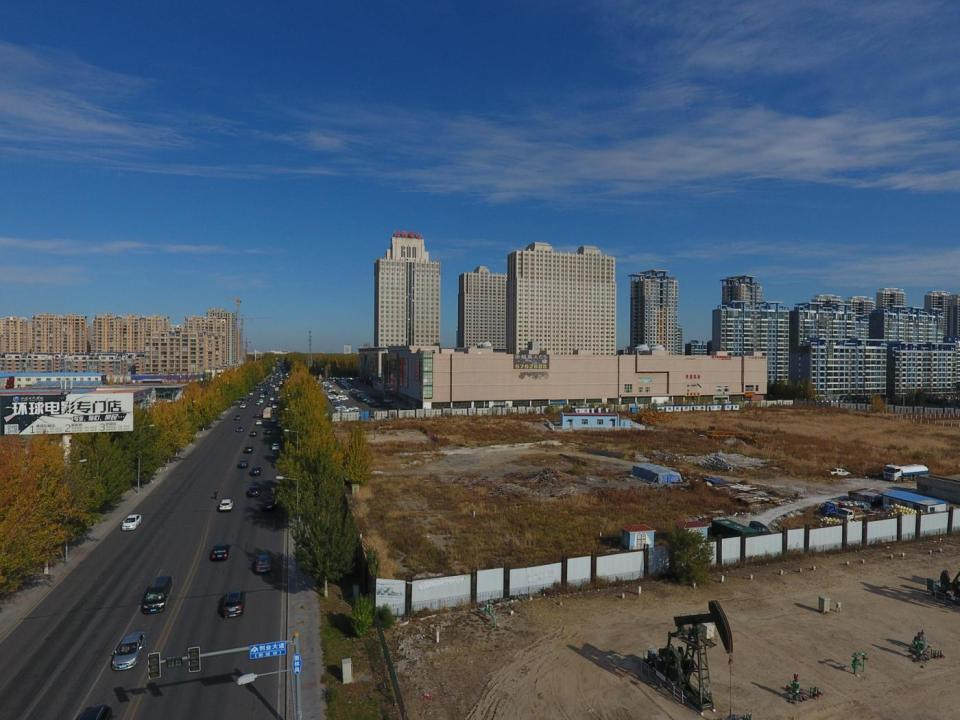bus: (263, 406, 272, 417)
car: (111, 630, 146, 672), (223, 590, 243, 618), (748, 520, 773, 540), (122, 514, 142, 532), (255, 552, 271, 574), (210, 544, 229, 562), (824, 468, 851, 477), (218, 499, 233, 512), (247, 485, 260, 498), (251, 466, 261, 476), (239, 460, 248, 468), (245, 445, 253, 453), (271, 443, 280, 450), (339, 408, 352, 412), (235, 426, 243, 432), (249, 430, 257, 436), (277, 420, 283, 428), (370, 402, 382, 406), (350, 408, 362, 412), (335, 407, 347, 411), (334, 405, 346, 409), (348, 406, 359, 410), (235, 414, 242, 420), (339, 410, 349, 414), (265, 429, 271, 435), (253, 412, 259, 418), (335, 402, 344, 406), (331, 399, 340, 403), (330, 397, 339, 401), (384, 398, 392, 402), (366, 398, 374, 402), (330, 396, 338, 400), (270, 417, 276, 422), (255, 420, 262, 424), (337, 394, 346, 397), (240, 403, 245, 408), (266, 402, 272, 406), (262, 391, 270, 394), (340, 397, 348, 400), (365, 401, 376, 403), (272, 404, 277, 408), (240, 399, 245, 403), (255, 400, 260, 404), (260, 399, 264, 403), (260, 394, 264, 398), (269, 379, 273, 383), (362, 398, 370, 400), (277, 395, 282, 398), (274, 410, 278, 413), (248, 397, 252, 400), (270, 397, 274, 400), (249, 392, 253, 395), (258, 390, 262, 393), (272, 384, 276, 387), (260, 386, 263, 389), (264, 389, 268, 391), (274, 391, 277, 393), (267, 388, 270, 390), (262, 383, 265, 385), (269, 383, 272, 385), (265, 384, 267, 386)
truck: (880, 464, 930, 482), (818, 501, 850, 518), (837, 506, 870, 522), (275, 386, 279, 392)
van: (142, 575, 174, 612)
